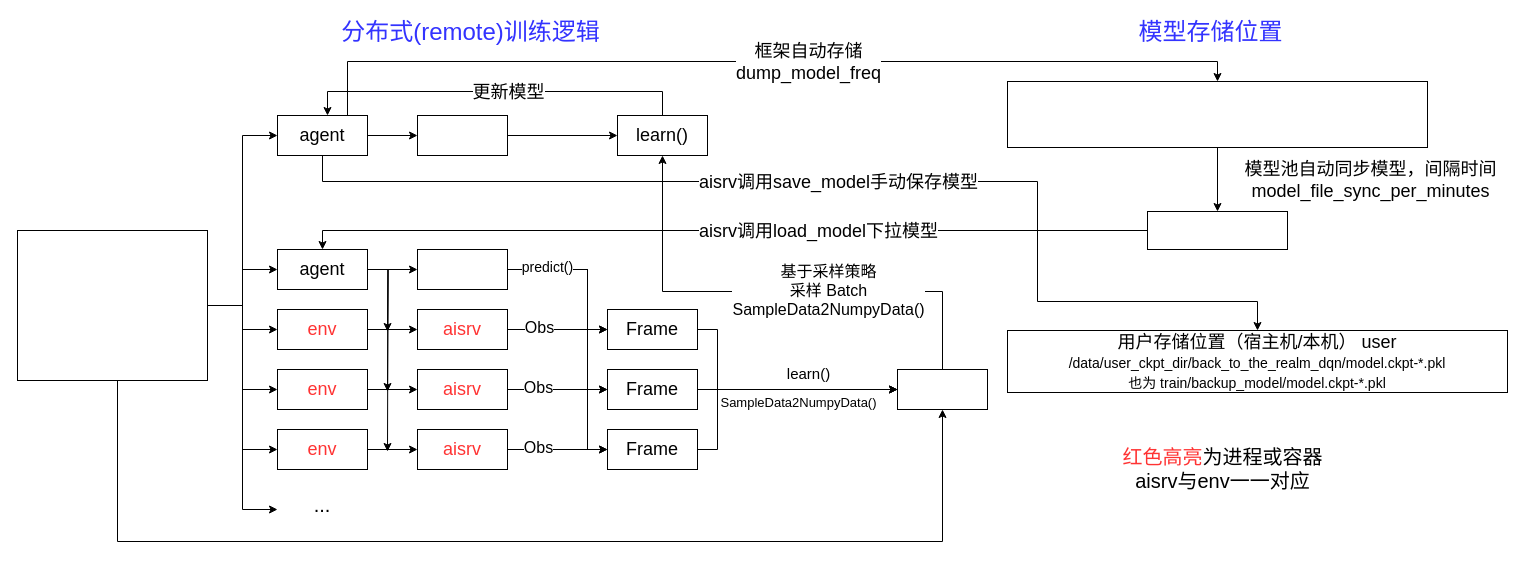
The diagram is 1525 pixels wide and 567 high, and some of its shapes have lost their labels. Each missing label, with the centre of its shape:
actor: point 462,269
buffer: point 942,389
learner: point 462,135
model_pool: point 1217,230
本地启动程序 train_test.py或 tools/start.sh只能启动一个aisrv； 客户端才能启动多进程训练: point 112,305
框架内部存储位置（容器中） framework /data/ckpt/back_to_the_realm_dqn/model.ckpt-*.pkl: point 1217,114
